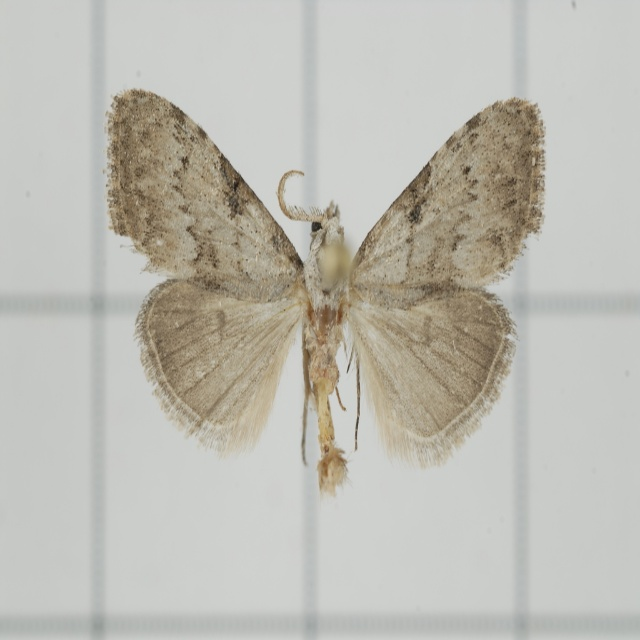Moths and butterflies: (105, 89, 545, 498)
